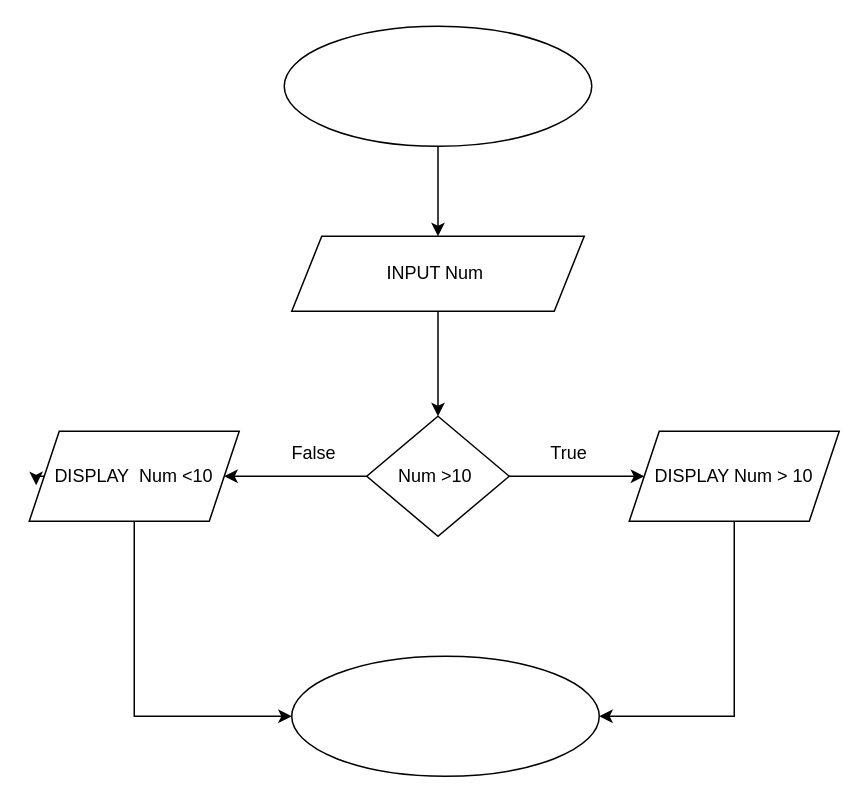
Image size: 867x803. Some labels were removed from this diagram. The centre of each missing label's shape, as x and y in pixels:
BEGIN: the point at 437,85
END: the point at 444,715
